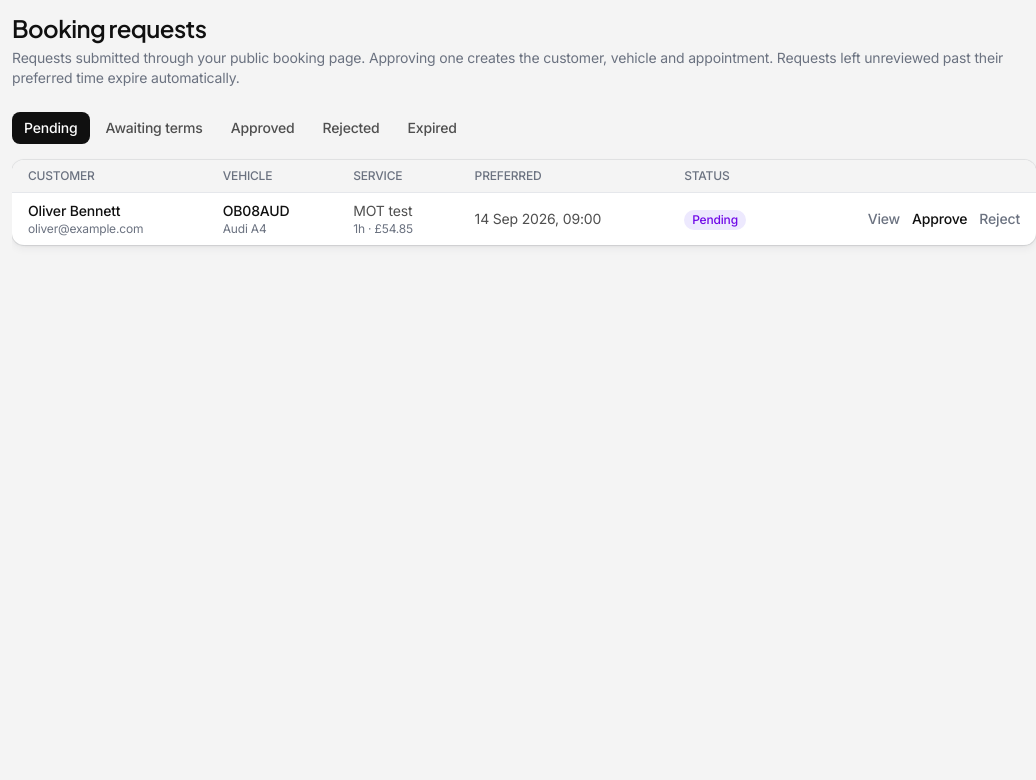
Test: BookingRequestsList — approving › preselects the first eligible employee when the approve panel opens
The image size is (1036, 780).
Expected: the text "Oliver Bennett" is shown, [28,202,120,219]
Click the button "Approve" at (940, 219), box [912,209,967,229]
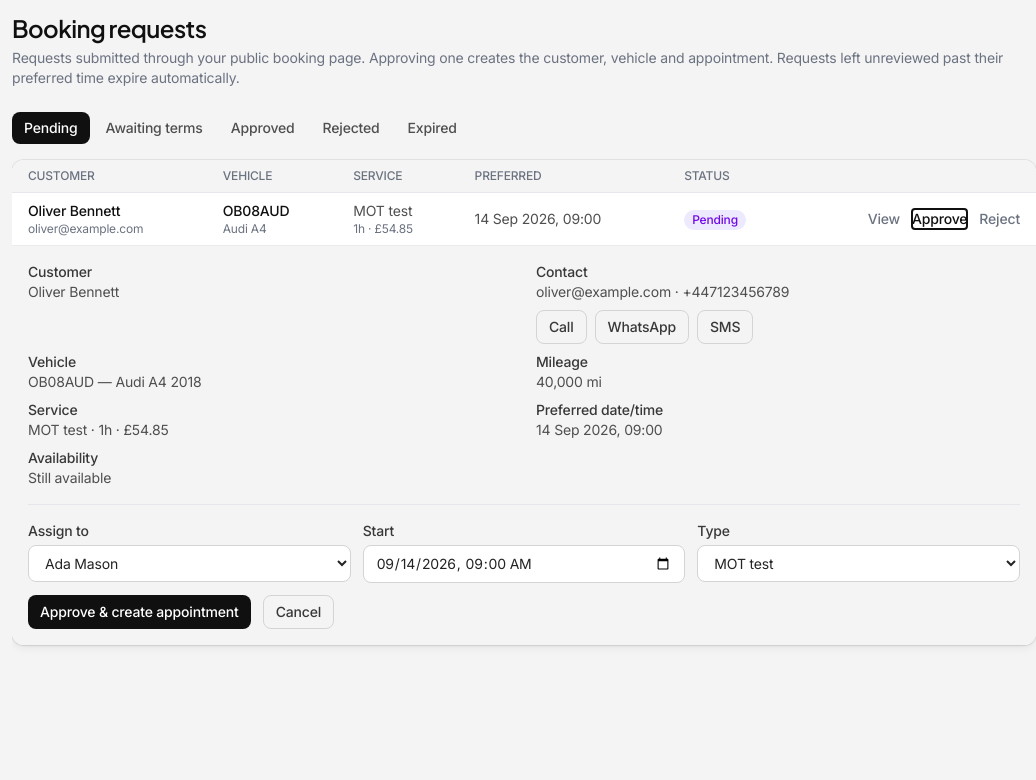
Now the dropdown labelled "Assign to" shows "Ada Mason", box [28,545,351,582]
Now the button "Approve & create appointment" is enabled, box [28,595,251,629]
